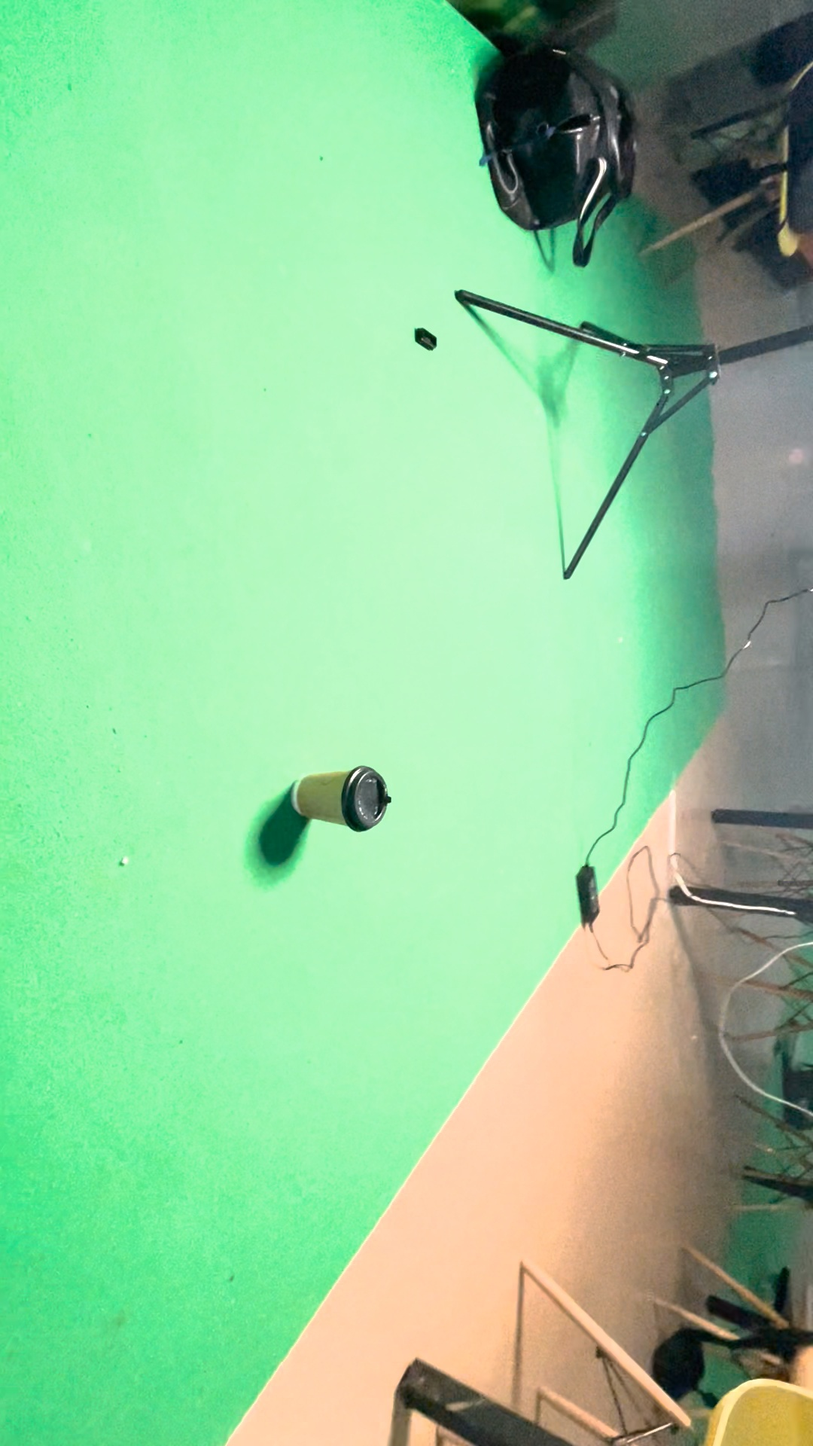cup: (436, 807, 516, 1206)
